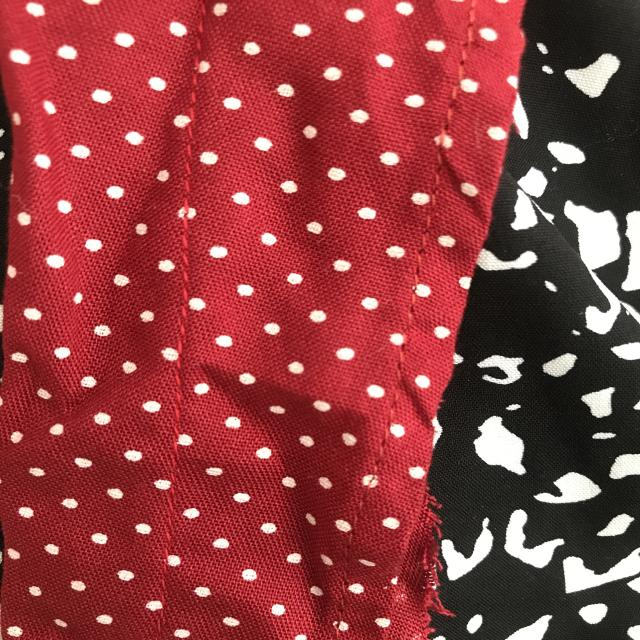good: (174, 140, 207, 322)
